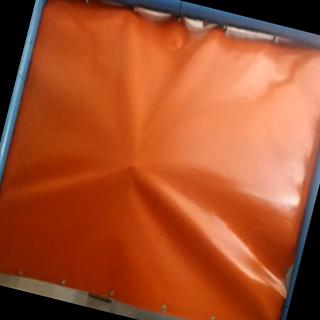Hit-hRxx: (125, 158, 144, 174)
